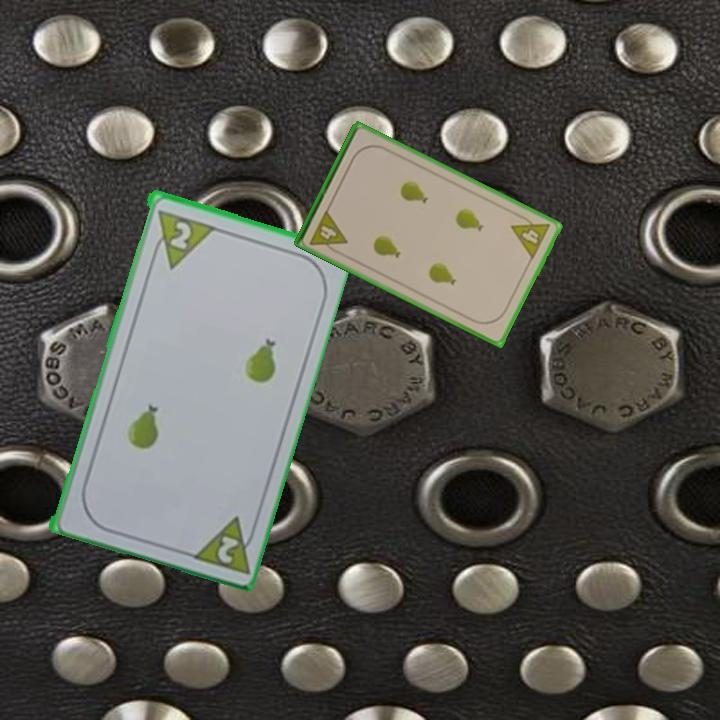2p: (185, 511, 260, 577), (166, 217, 194, 252)
4p: (507, 210, 553, 262), (306, 206, 350, 257)
